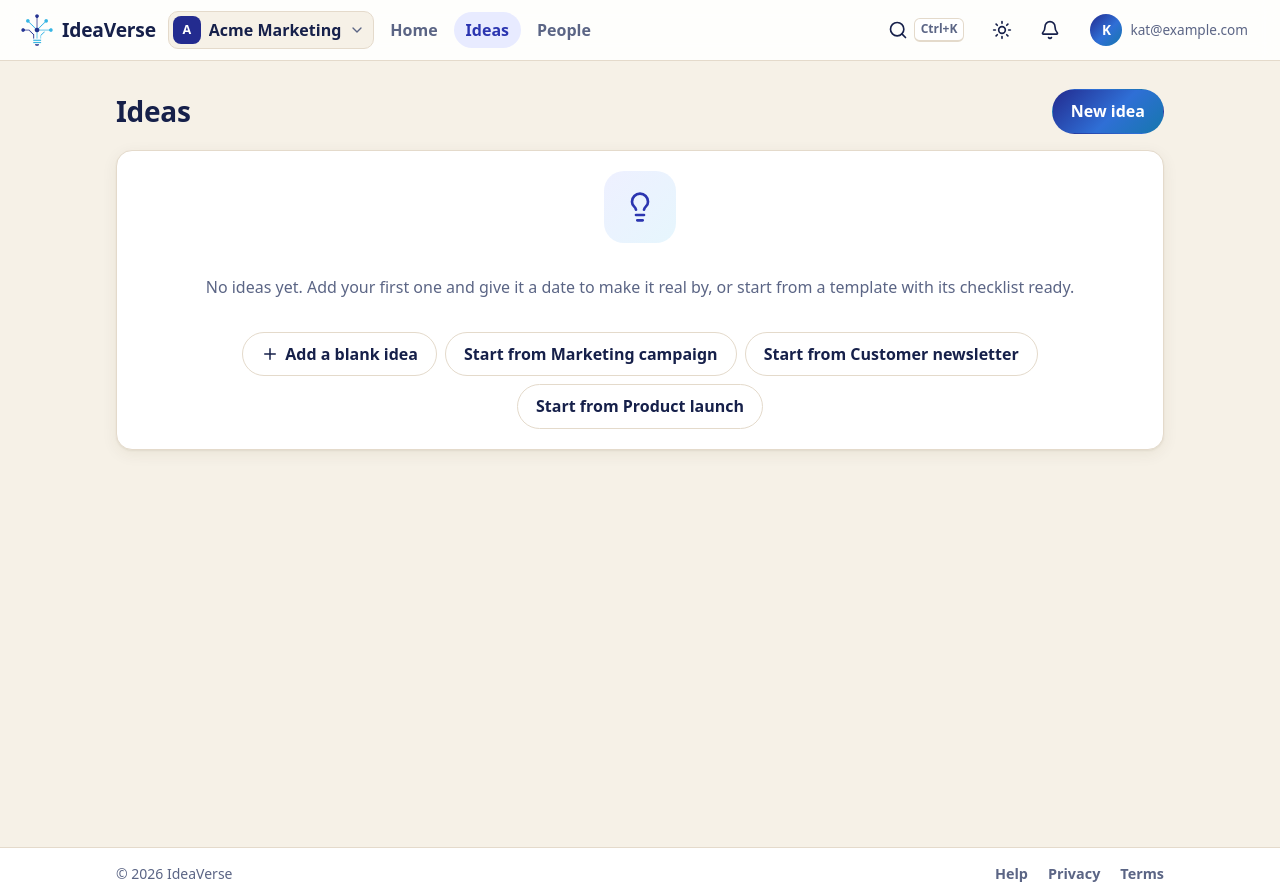
IdeasPage › opens the New idea form from a template shortcut in an empty workspace
Click the link "Start from Marketing campaign". click: (591, 354)
box: [445,332,737,376]
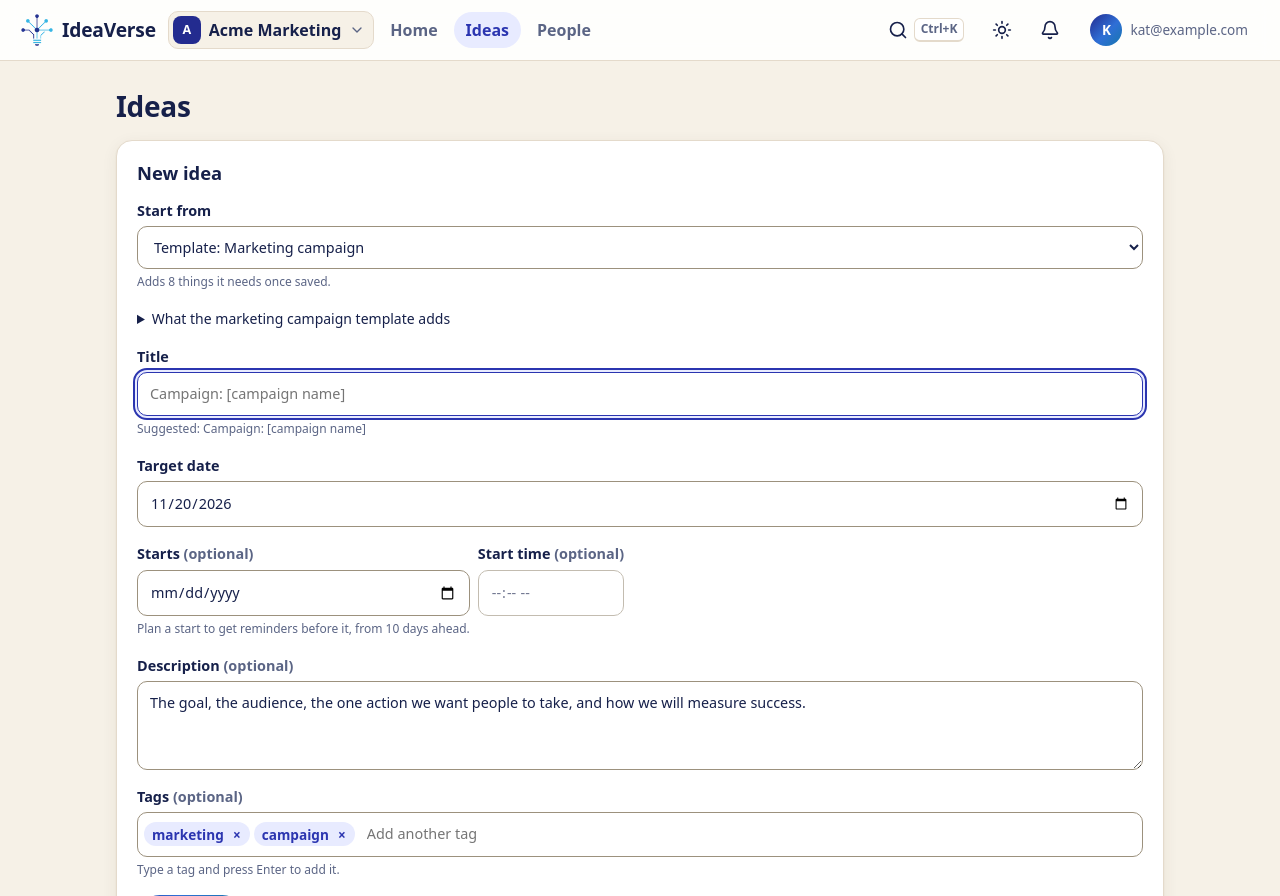
Result: the dropdown labelled "Start from" shows "Template: Marketing campaign" at [137,226,1143,269]
Result: the text "No ideas yet" is gone
